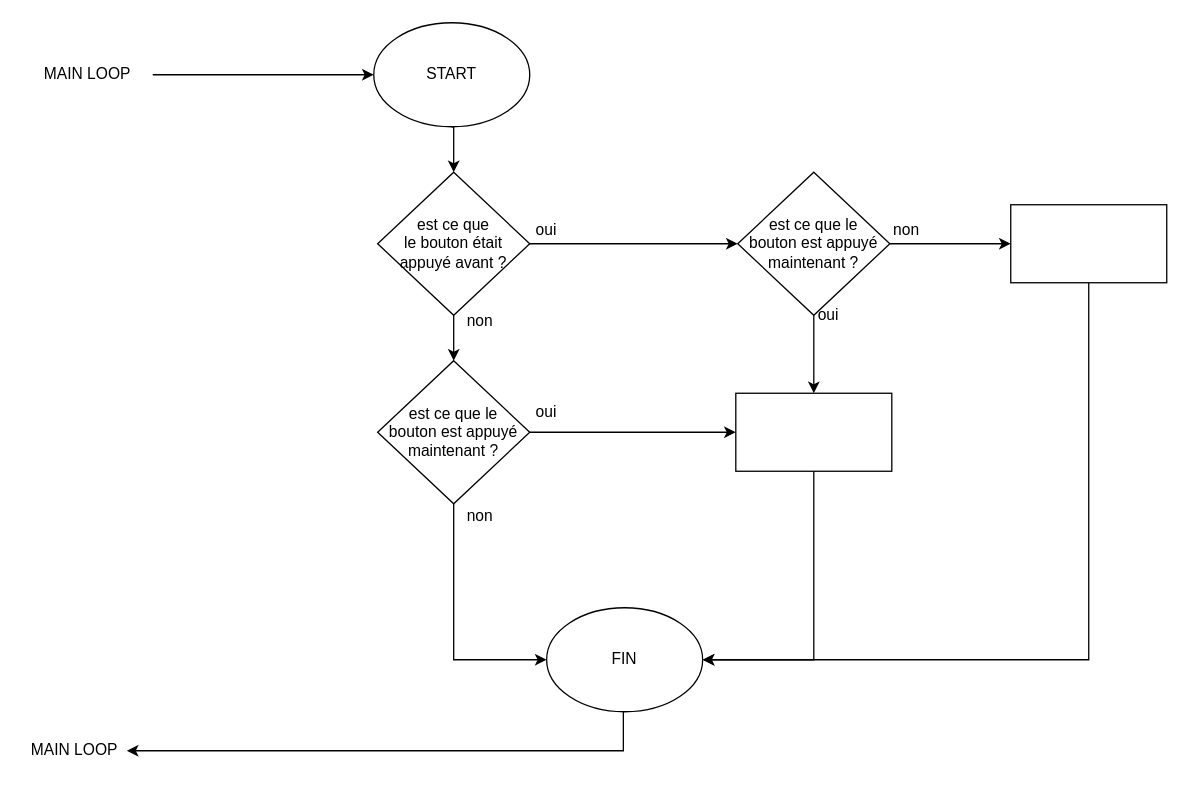
Image size: 1190x787. Some labels were removed from this diagram. The shapes that lost their labels are listed below. From the top down, each one's centre as x and y in pixels, then its label:
At point (1088, 243): "Le bouton vient d’être relâche !".
At point (813, 431): "On garde en mémoire que le bouton était appuyé avant".
